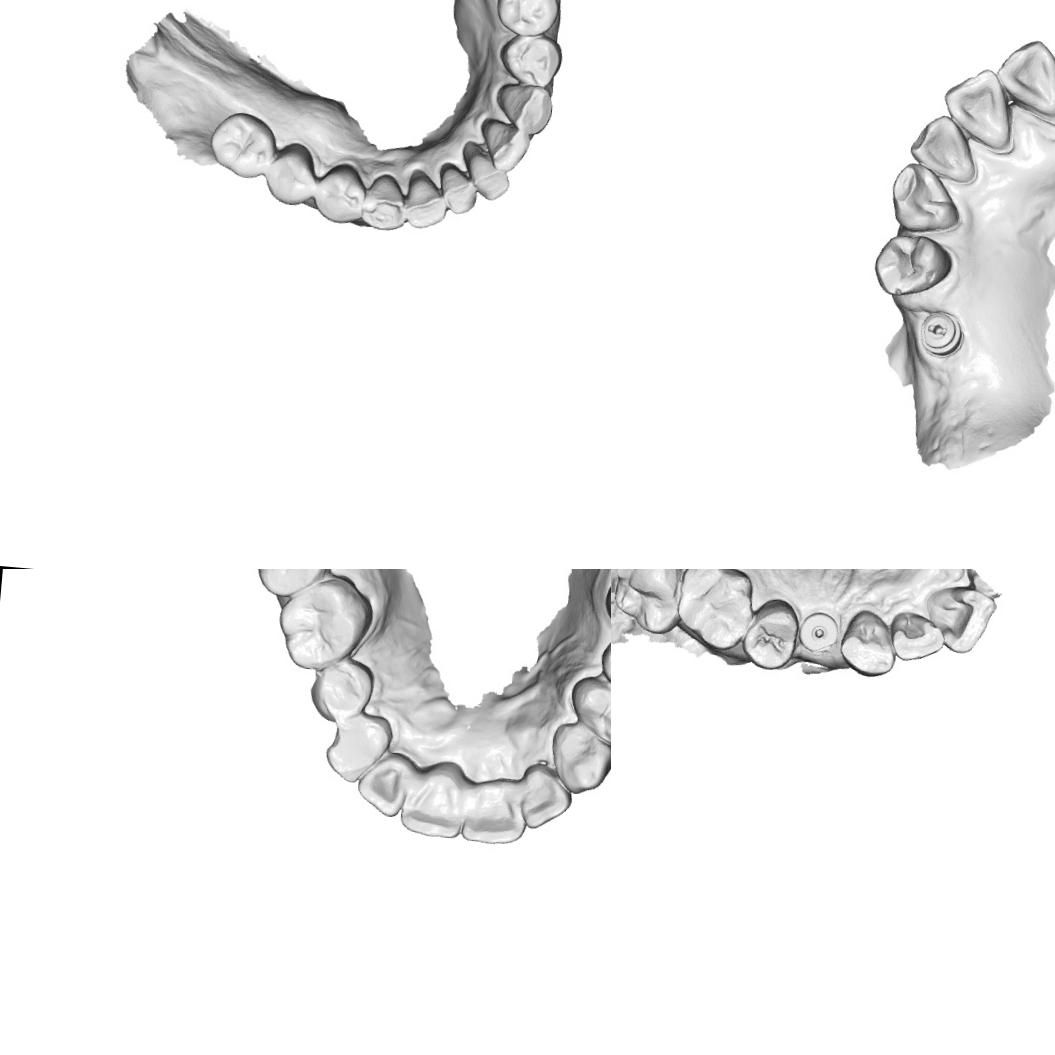canine: (882, 161, 965, 238), (319, 706, 392, 788), (545, 718, 611, 799), (835, 604, 898, 679), (492, 76, 554, 138), (358, 170, 412, 233)
implant: (797, 608, 842, 654)
implant_minus: (915, 308, 966, 358)
incisor: (937, 64, 1018, 152), (918, 581, 1000, 657), (905, 111, 981, 185), (990, 35, 1055, 119), (395, 769, 467, 841), (352, 750, 418, 821), (458, 782, 531, 846), (473, 116, 536, 178), (457, 140, 513, 204), (888, 607, 947, 665), (519, 773, 573, 836), (402, 167, 453, 232), (432, 160, 482, 218)
molar: (271, 569, 376, 676), (670, 569, 760, 655), (206, 106, 280, 182), (611, 569, 689, 640), (241, 569, 346, 604)
premolar: (870, 230, 954, 302), (300, 646, 374, 725), (738, 592, 804, 674), (494, 30, 564, 90), (260, 138, 318, 210), (308, 161, 364, 227), (565, 672, 611, 745), (491, 0, 564, 39), (592, 634, 611, 704)
